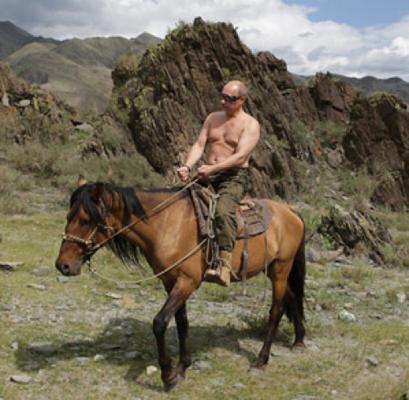person: (176, 79, 262, 290)
